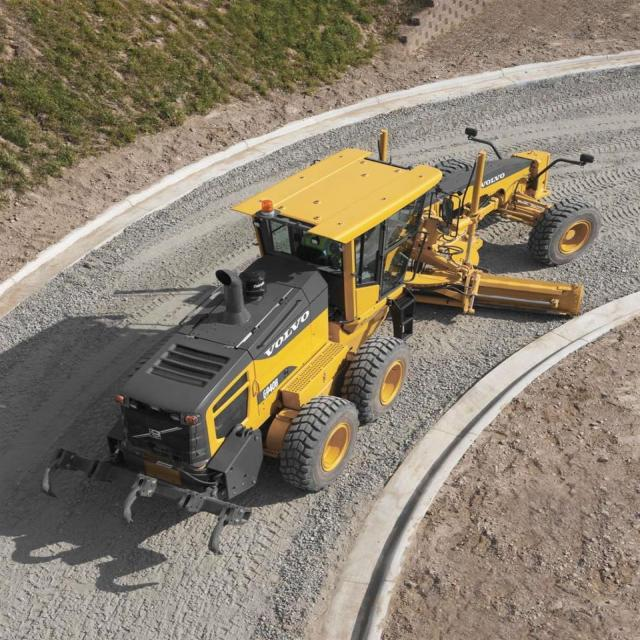buldozerpayloadergrader: (41, 107, 640, 525)
